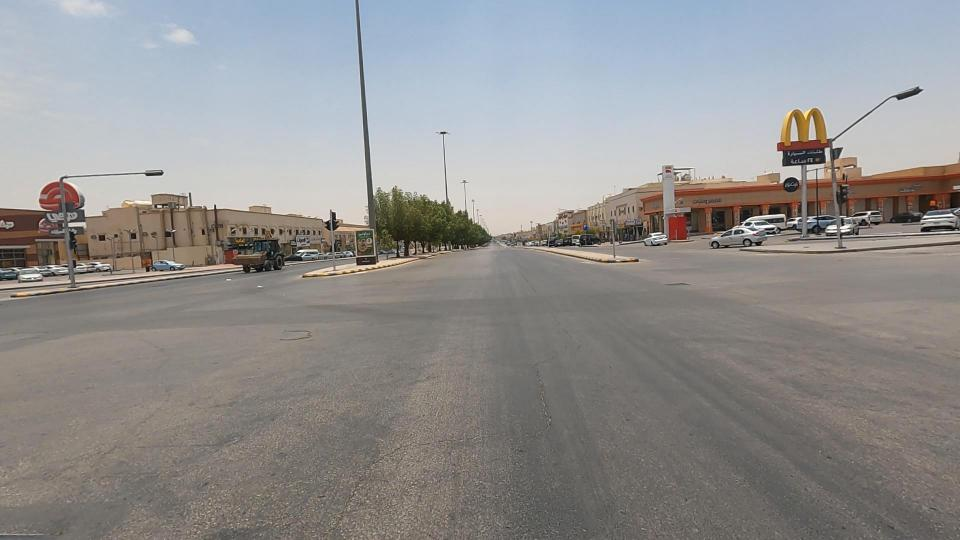GARBAGE: (203, 266, 255, 293), (246, 275, 273, 297)
